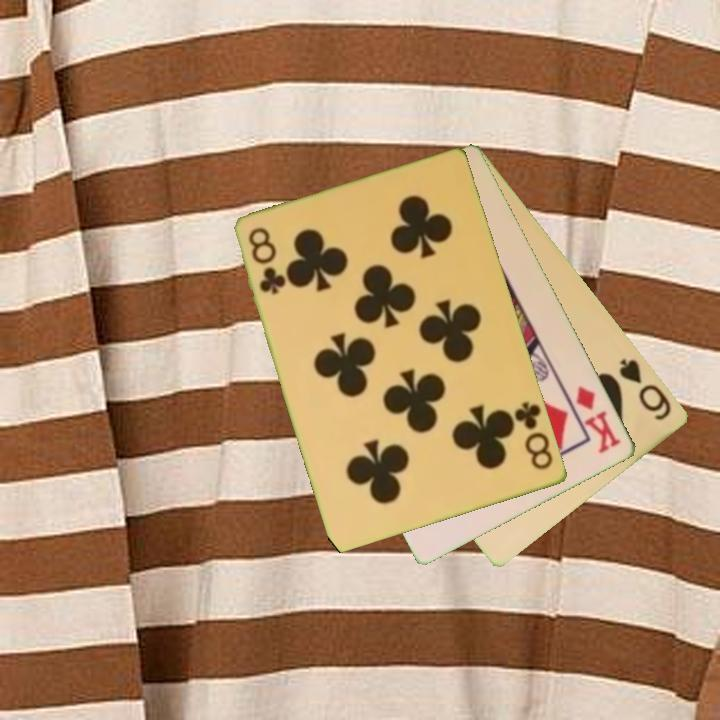6s: (616, 355, 675, 424)
8c: (510, 398, 557, 473), (245, 224, 288, 298)
Kd: (572, 382, 624, 457)
